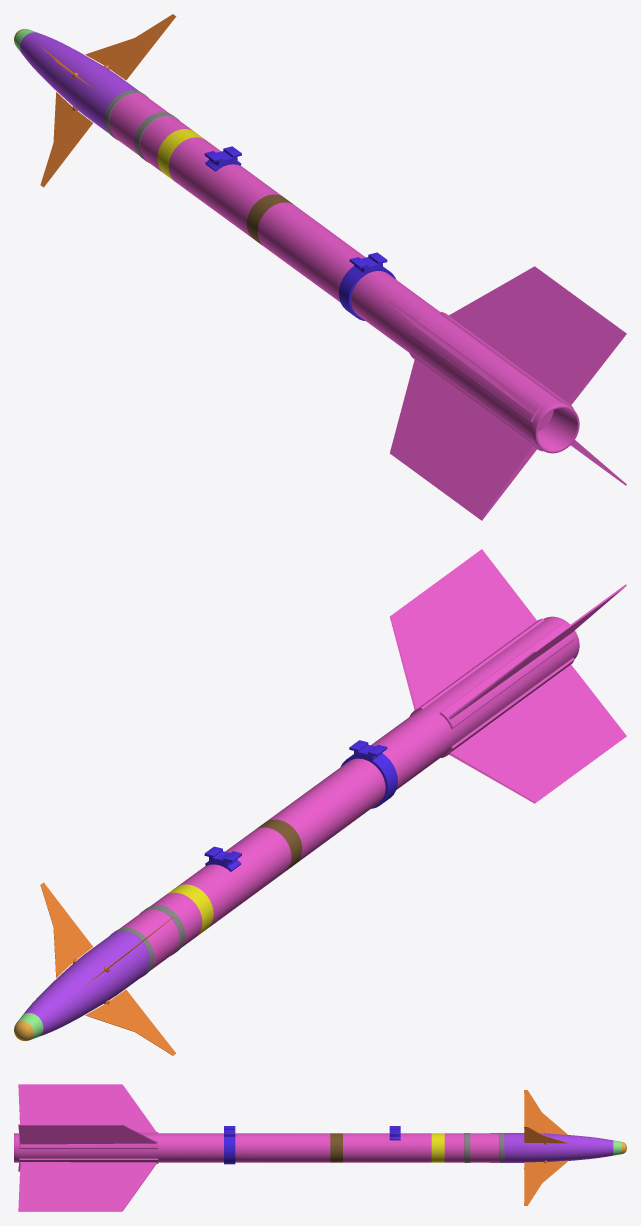
File: AIM-9.fbx
3 renders of one model, top to bottom at view 1: azimuth 30°, elevation 25°; view 2: azimuth 150°, elevation 25°; view 3: azimuth 270°, elevation 25°, orthographic. The views are drawn at different scales.
Visible parts, largest first — view 1: Body, Wings, Rear Hanger; view 2: Body, Wings, Rear Hanger; view 3: Body, Wings, Rear Hanger.
Part boxes in pixels (bbox=[...]): Body: bbox=[14, 29, 626, 520]; Wings: bbox=[40, 14, 176, 187]; Rear Hanger: bbox=[338, 252, 396, 320]; Body: bbox=[14, 549, 626, 1040]; Wings: bbox=[40, 882, 176, 1055]; Rear Hanger: bbox=[340, 740, 397, 808]; Body: bbox=[14, 1084, 626, 1211]; Wings: bbox=[524, 1090, 568, 1205]; Rear Hanger: bbox=[224, 1126, 235, 1164].
Bounding box in the file's own units: 1404 × 220 × 220.
